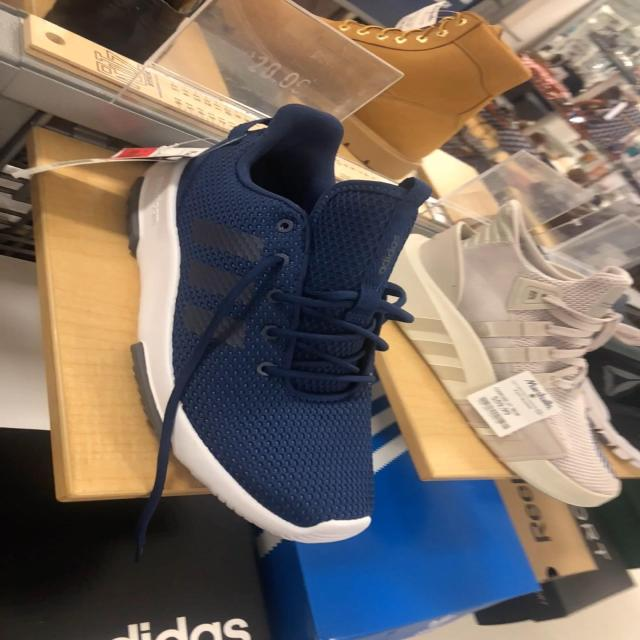shoe: (133, 104, 426, 546)
